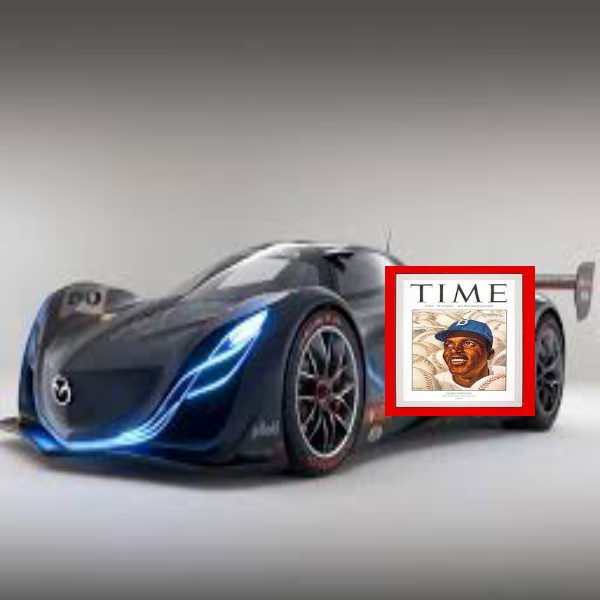time_cover: (377, 243, 549, 431)
